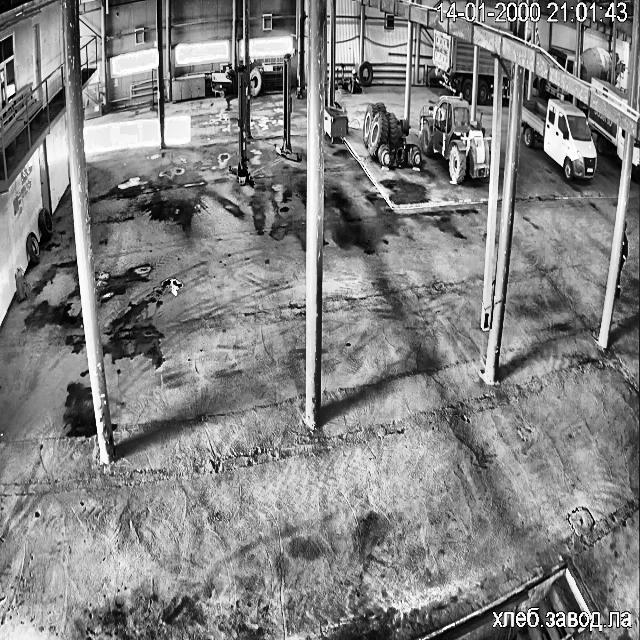class4: (620, 222, 628, 264), (616, 266, 621, 297)
class6: (420, 96, 489, 182), (363, 102, 420, 166)
class7: (521, 100, 596, 180), (432, 28, 473, 100), (588, 108, 624, 157), (580, 45, 611, 80), (477, 48, 494, 102), (592, 78, 628, 103), (537, 78, 572, 99), (549, 45, 574, 73), (632, 140, 640, 178), (500, 77, 508, 97), (616, 57, 622, 76), (504, 60, 510, 70)
tractor: (16, 268, 24, 300)
truck: (230, 66, 253, 186), (275, 55, 300, 161)
